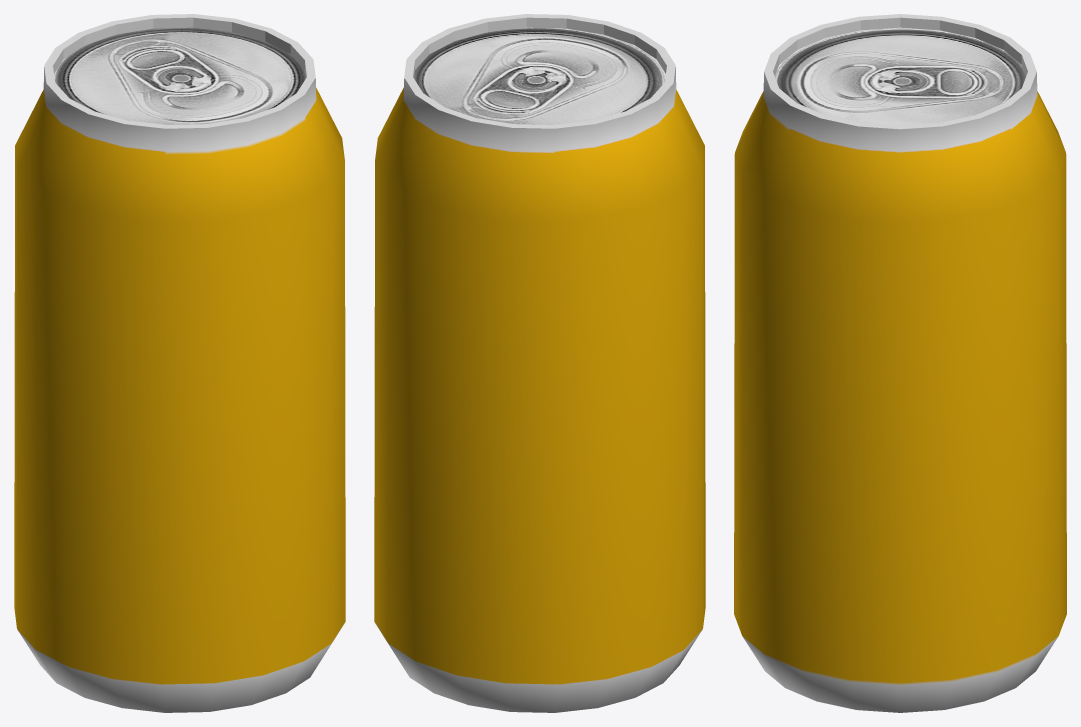
The model's file is Can_Orange.fbx.
3 renders of one model, left to right at view 1: azimuth 30°, elevation 25°; view 2: azimuth 150°, elevation 25°; view 3: azimuth 270°, elevation 25°, orthographic.
Visible parts, largest first — view 1: pCylinder4; view 2: pCylinder4; view 3: pCylinder4.
Part boxes in pixels (<box>): pCylinder4: <box>14,14,345,712</box>; pCylinder4: <box>374,14,705,712</box>; pCylinder4: <box>734,14,1066,712</box>.
Size of the model in its own units: 5.65 by 10.88 by 5.65.
